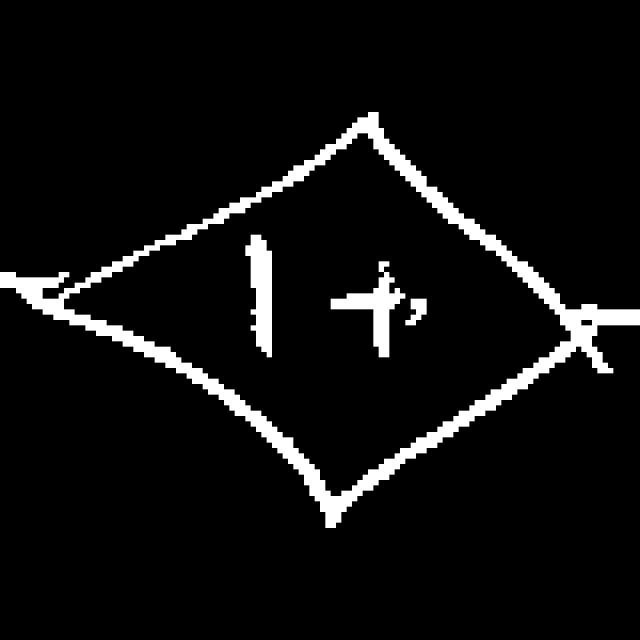dependant_voltage: (56, 103, 625, 546)
